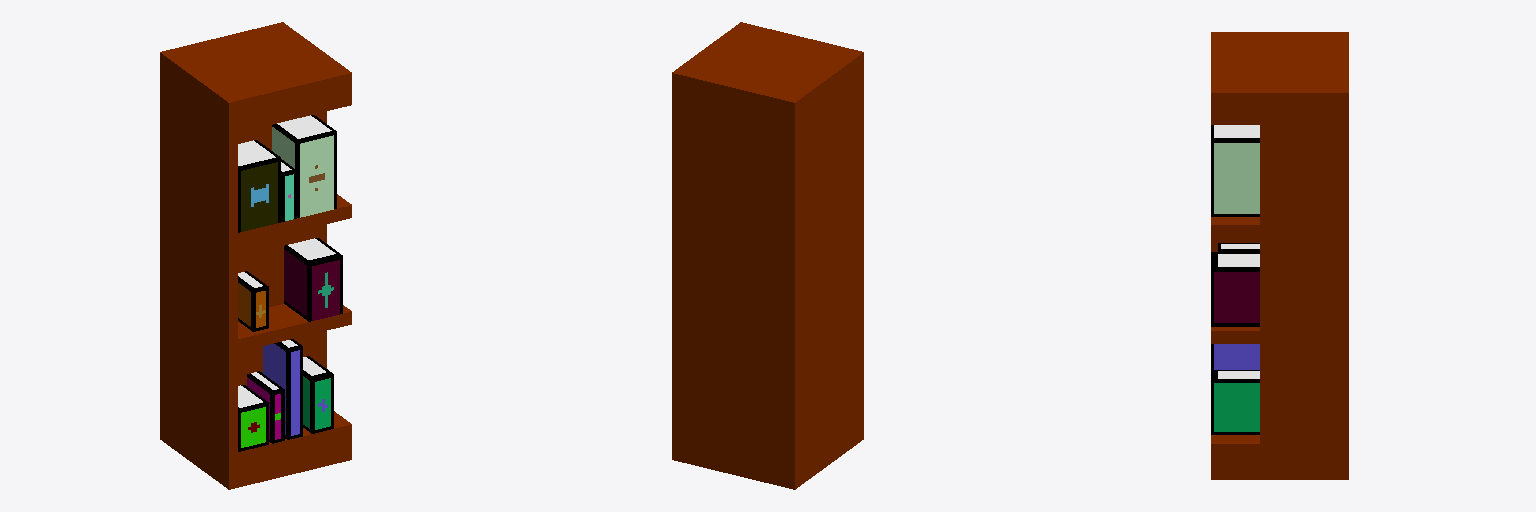
3 renders of one model, left to right at view 1: azimuth 30°, elevation 25°; view 2: azimuth 150°, elevation 25°; view 3: azimuth 270°, elevation 25°, orthographic.
Parts seen in each view (by area): view 1: object 1; view 2: object 1; view 3: object 1.
Boxes of the visible parts, x1=… form: object 1: x1=160, y1=22, x2=351, y2=489; object 1: x1=672, y1=22, x2=863, y2=489; object 1: x1=1211, y1=32, x2=1348, y2=479.
Bounding box in the file's own units: 4 × 12 × 3.9.
Materials: 1 (1 with a texture image).